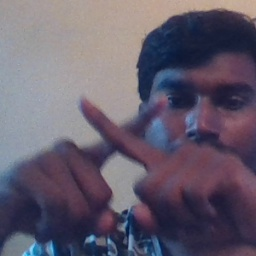X: (55, 84, 190, 216)
